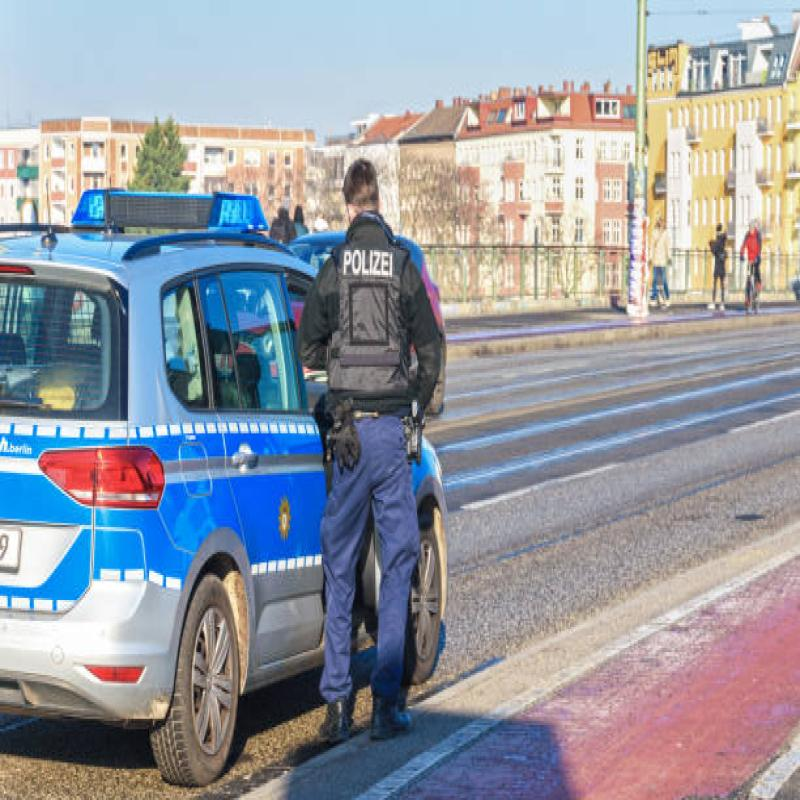AmbulanceSiren: (66, 173, 280, 246)
